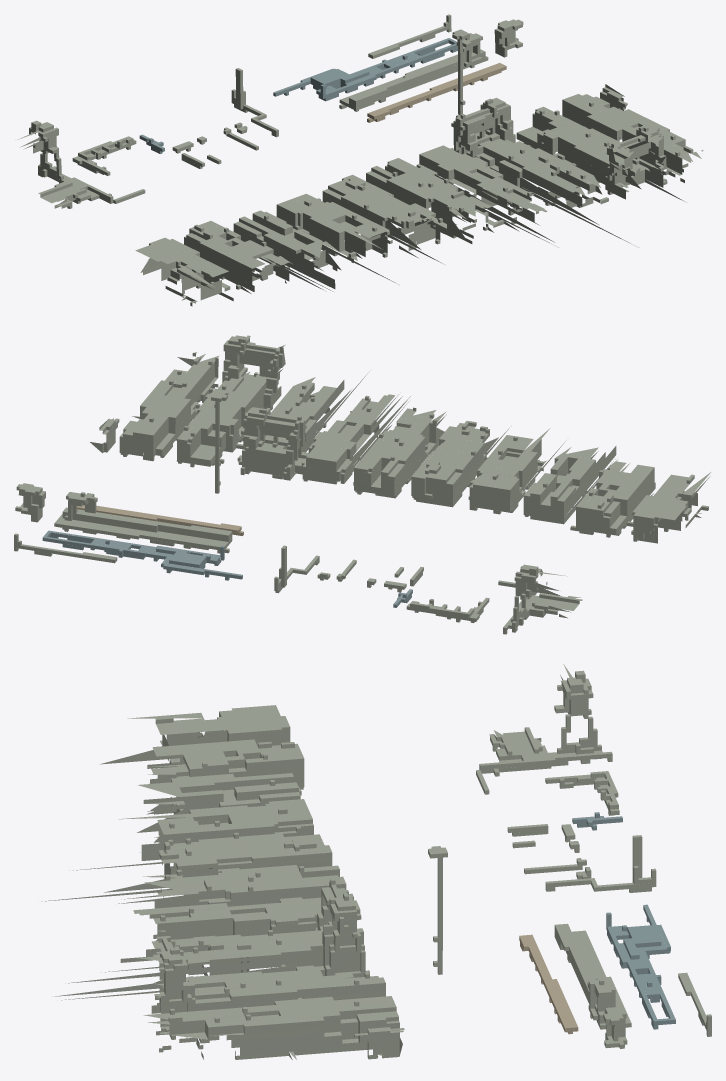
3 renders of one model, top to bottom at view 1: azimuth 30°, elevation 25°; view 2: azimuth 150°, elevation 25°; view 3: azimuth 270°, elevation 25°, orthographic. The views are drawn at different scales.
Visible parts, largest first — view 1: measured-industrial; view 2: measured-industrial; view 3: measured-industrial.
Part boxes in pixels (x1,y1,x2,y2): measured-industrial: (15,14,703,306); measured-industrial: (14,335,710,634); measured-industrial: (41,664,711,1059).
Bounding box in the file's own units: 266 × 47.4 × 232.
